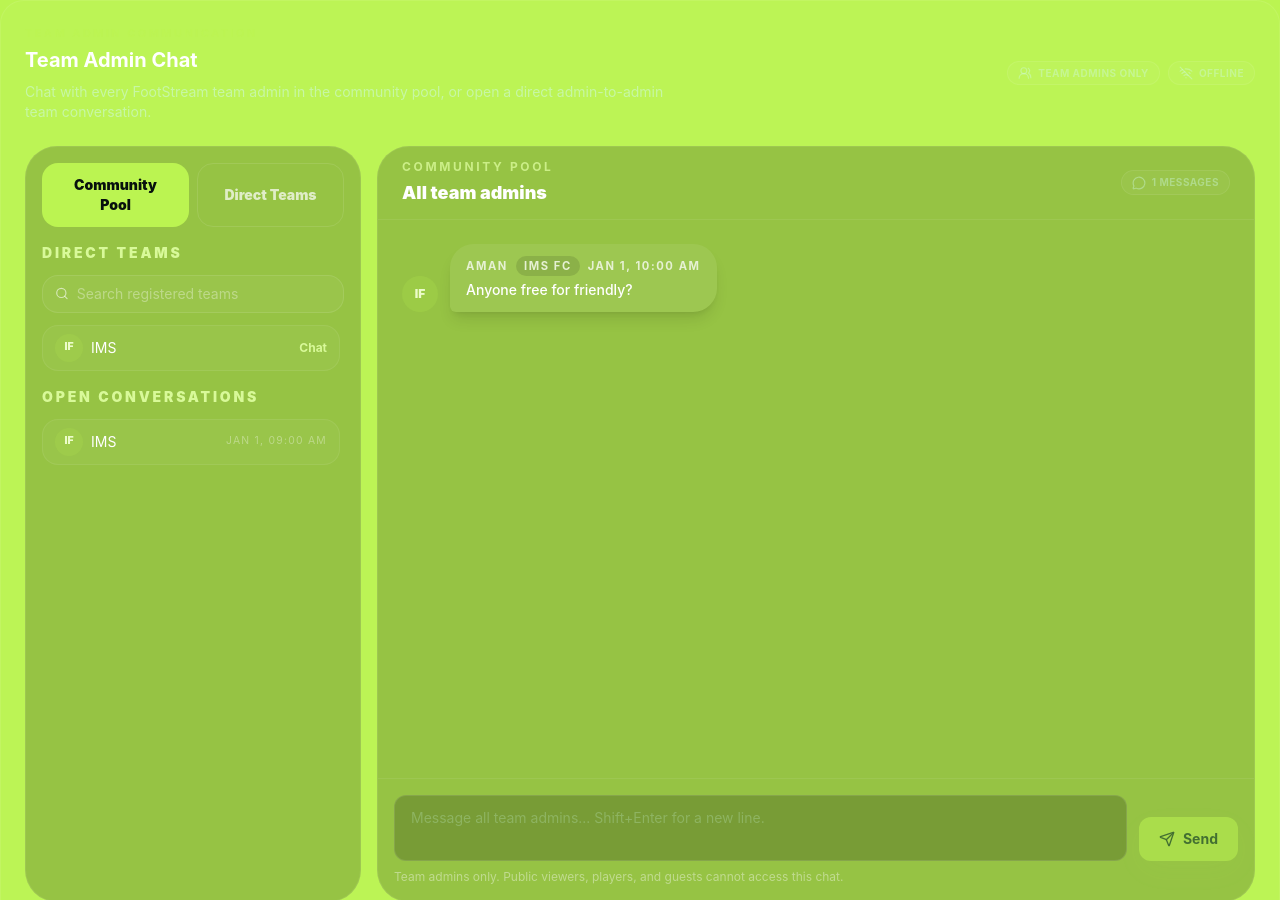
Test: direct team chat can be opened from registered team list and receives socket messages
What coordinates should you click on to do the following:
click the button with aria-label "Start chat with IMS FC"
I would click on:
 (69, 348)
Its box is [42,324,340,370].
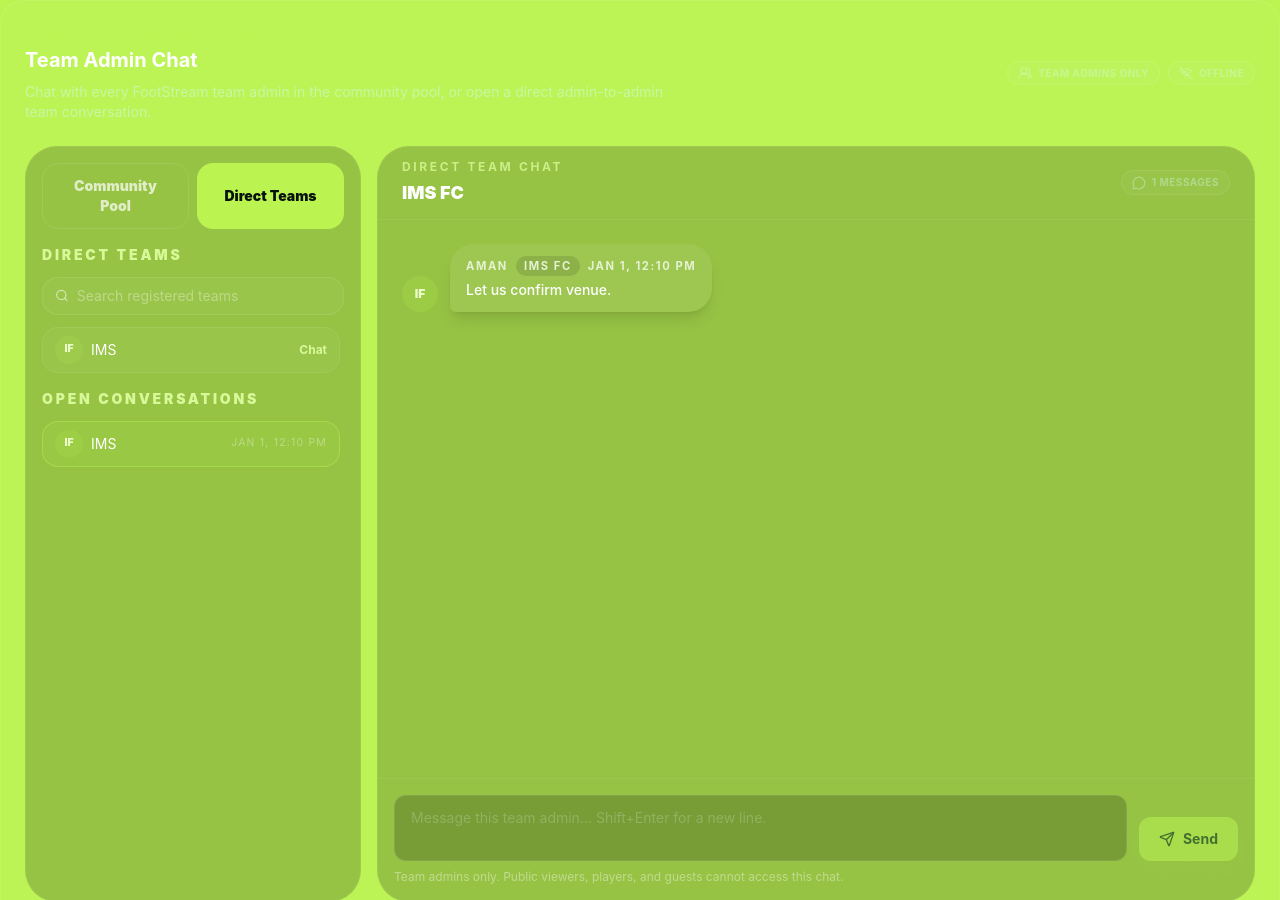
Check: the heading "IMS FC" is shown, box [402,182,464,202]
Check: the text "Let us confirm venue." is shown, box [466,281,611,298]
